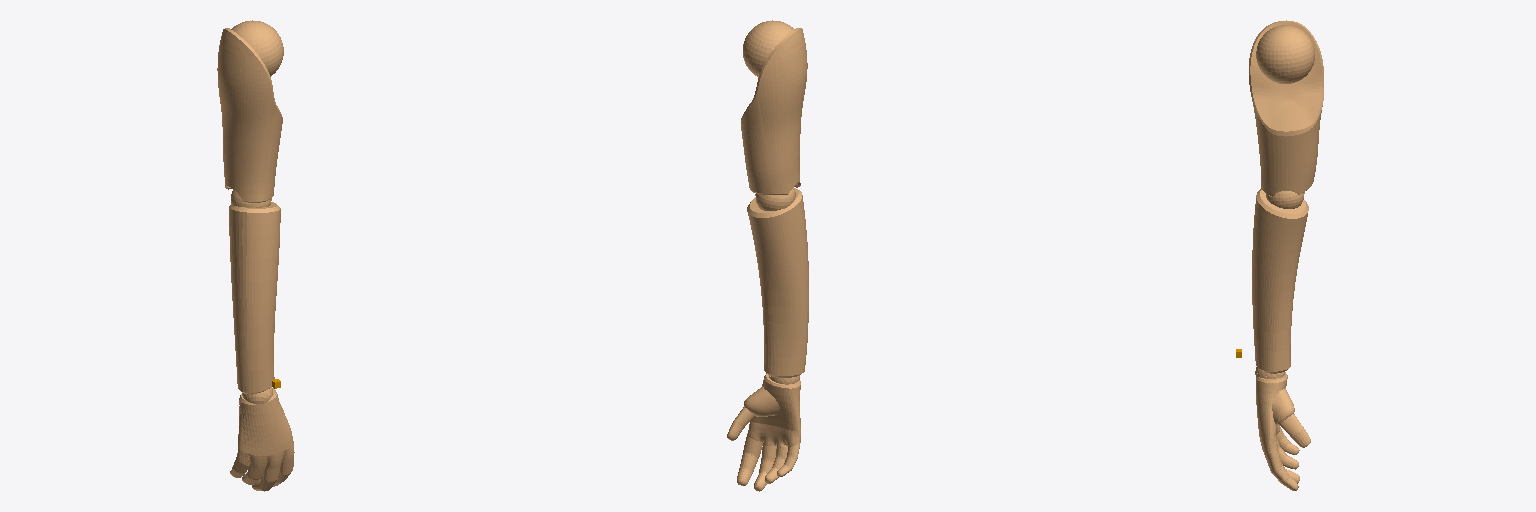
URDF robot description (right_arm):
<?xml version="1.0" ?>
<robot name="right_arm">

  <material name="skin">
    <color rgba="0.9 0.72 0.53 1.000"/>
  </material>

  <link name="base_link">
    <inertial>
      <origin xyz="0.0 0.0 0.0" rpy="0 0 0"/>
      <mass value="0.0"/>
      <inertia ixx="0.0" iyy="0.0" izz="0.0" ixy="0.0" iyz="0.0" ixz="0.0"/>
    </inertial>
  </link>

  <joint name="base_fixed" type="fixed">
    <origin rpy="0 0 0.0" xyz="0 0 0.0"/>
    <parent link="base_link"/>
    <child link="base_link_0"/>
  </joint>

  <link name="base_link_0">
    <inertial>
      <origin xyz="0.0 0.0 0.0" rpy="0 0 0"/>
      <mass value="0.0"/>
      <inertia ixx="0.0" iyy="0.0" izz="0.0" ixy="0.0" iyz="0.0" ixz="0.0"/>
    </inertial>
  </link>

  <link name="base_link_1">
    <inertial>
      <origin xyz="0.0 0.0 0.0" rpy="0 0 0"/>
      <mass value="0.0"/>
      <inertia ixx="0.0" iyy="0.0" izz="0.0" ixy="0.0" iyz="0.0" ixz="0.0"/>
    </inertial>
  </link>

  <link name="base_link_2">
    <inertial>
      <origin xyz="0.0 0.0 0.0" rpy="0 0 0"/>
      <mass value="0.0"/>
      <inertia ixx="0.0" iyy="0.0" izz="0.0" ixy="0.0" iyz="0.0" ixz="0.0"/>
    </inertial>
  </link>

    <link name="hand_x">
    <inertial>
      <origin xyz="0.0 0.0 0.0" rpy="0 0 0"/>
      <mass value="0.0"/>
      <inertia ixx="0.0" iyy="0.0" izz="0.0" ixy="0.0" iyz="0.0" ixz="0.0"/>
    </inertial>
  </link>

  <link name="upper_arm">
    <inertial>
      <origin xyz="0.00277 -0.00352 -0.098" rpy="0 0 0"/>
      <mass value="1.0"/>
      <inertia ixx="0.00691" iyy="0.00674" izz="0.00097" ixy="-6.65745e-06" iyz="-7.0718e-05" ixz="0.00015"/>
    </inertial>
    <visual>
      <origin xyz="0 0 0" rpy="0 0 0"/>
      <geometry>
        <mesh filename="meshes/right_upper_arm.stl" scale="1.0 1.0 1.0"/>
      </geometry>
      <material name="skin"/>
    </visual>
    <collision>
      <origin xyz="0 0 0" rpy="0 0 0"/>
      <geometry>
        <mesh filename="meshes/right_upper_arm.stl" scale="1.0 1.0 1.0"/>
      </geometry>
    </collision>
  </link>

  <link name="lower_arm">
    <inertial>
      <origin xyz="0.01457 9.28389e-05 -0.19143" rpy="0 0 0"/>
      <mass value="1.0"/>
      <inertia ixx="0.01712" iyy="0.01699" izz="0.00072" ixy="-5.34657e-05" iyz="-0.00071" ixz="0.00031"/>
    </inertial>
    <visual>
      <origin xyz="0.0 0.0 0.0" rpy="0 0 0"/>
      <geometry>
        <mesh filename="meshes/right_lower_arm_without_hand.stl" scale="1.0 1.0 1.0"/>
      </geometry>
      <material name="skin"/>
    </visual>
    <collision>
      <origin xyz="0.0 0.0 0.0" rpy="0 0 0"/>
      <geometry>
        <mesh filename="meshes/right_lower_arm_without_hand.stl" scale="1.0 1.0 1.0"/>
      </geometry>
    </collision>
  </link>

  <link name="hand">
    <inertial>
      <origin xyz="0.16051 -0.012319 0.075256" rpy="0 0 0"/>
      <mass value="1.0"/>
      <inertia ixx="0.01712" iyy="0.01699" izz="0.00072" ixy="-5.34657e-05" iyz="-0.00071" ixz="0.00031"/>
    </inertial>
    <visual>
      <origin xyz="0.0 0.0 0.0" rpy="0 0 0"/>
      <geometry>
        <mesh filename="meshes/right_hand.stl" scale="1.0 1.0 1.0"/>
      </geometry>
      <material name="skin"/>
    </visual>
    <collision>
      <origin xyz="0.0 0.0 0.0" rpy="0 0 0"/>
      <geometry>
        <mesh filename="meshes/right_hand.stl" scale="1.0 1.0 1.0"/>
      </geometry>
    </collision>
  </link>

  <joint name="base_x" type="continuous">
    <origin xyz="0.0 0.0 0.0" rpy="0 0 0"/>
    <parent link="base_link_0"/>
    <child link="base_link_1"/>
    <axis xyz="1.0 0.0 0.0"/>
    <!-- <limit effort="100" lower="-1.57" upper="1.57" velocity="5.0"/> -->
  </joint>

  <joint name="base_y" type="continuous">
    <origin xyz="0.0 0.0 0.0" rpy="0 0 0"/>
    <parent link="base_link_1"/>
    <child link="base_link_2"/>
    <axis xyz="0.0 1.0 0.0"/>
    <!-- <limit effort="100" lower="-1.57" upper="0" velocity="5.0"/> -->
  </joint>

  <joint name="base_z" type="continuous">
    <origin xyz="0.0 0.0 0.0" rpy="0 0 0"/>
    <parent link="base_link_2"/>
    <child link="upper_arm"/>
    <axis xyz="0.0 0.0 1.0"/>
    <!-- <limit effort="100" lower="0.0" upper="1.57" velocity="5.0"/> -->
  </joint>

  <joint name="upper_to_lower" type="continuous">
    <origin xyz="0.0 0.0 -0.24102" rpy="0 0 -1.57"/>
    <parent link="upper_arm"/>
    <child link="lower_arm"/>
    <axis xyz="0.0 1.0 0.0"/>
    <!-- <limit effort="100" lower="-2.0944" upper="0.0" velocity="5.0"/> -->
  </joint>


  <joint name="lower_to_hand_x" type="fixed">
    <origin xyz="0.0 0.0 -0.296366" rpy="0 0 0"/>
    <parent link="lower_arm"/>
    <child link="hand_x"/>
    <!-- <axis xyz="1.0 0.0 0.0"/> -->
    <!-- <limit effort="100" lower="-2.0944" upper="0.0" velocity="5.0"/> -->
  </joint>


  <joint name="lower_to_hand" type="fixed">
    <origin xyz="0.0 0.0 0.0" rpy="0 0 0"/>
    <parent link="hand_x"/>
    <child link="hand"/>
    <!-- <axis xyz="0.0 1.0 0.0"/> -->
    <!-- <limit effort="100" lower="-2.0944" upper="0.0" velocity="5.0"/> -->
  </joint>



  <joint name="grasp_fixed_joint" type="fixed">
    <parent link="hand"/>
    <child link="ee_link"/>
    <origin rpy="0.0 0.0 0.0" xyz="0.07 0.0 0.03"/>
  </joint>

  <link name="ee_link">
    <inertial>
      <origin xyz="0.0 0.0 0.0" rpy="0 0 0"/>
      <mass value="0.0"/>
      <inertia ixx="0.0" iyy="0.0" izz="0.0" ixy="0.0" iyz="0.0" ixz="0.0"/>
    </inertial>
    <visual>
      <geometry>
        <box size="0.01 0.01 0.01"/>
      </geometry>
      <origin rpy="0 0 0" xyz="0.0 0 0"/>
    </visual>
  </link>

</robot>

--- What the picture shows (computed from the rendered views, not written in the file) ---
Views: 3 orthographic renders of the robot side by side, from view 1: azimuth 30°, elevation 25°; view 2: azimuth 150°, elevation 25°; view 3: azimuth 270°, elevation 25°.
Robot: right_arm — 9 links, 8 joints (4 continuous, 4 fixed); root link base_link; default pose: every joint at zero.
Links seen in each view (by area): view 1: upper_arm, lower_arm, hand; view 2: upper_arm, lower_arm, hand; view 3: upper_arm, lower_arm, hand.
Boxes of the visible links, <box> form: upper_arm: <box>217,20,283,207</box>; lower_arm: <box>229,202,280,396</box>; hand: <box>230,388,294,491</box>; upper_arm: <box>741,20,807,210</box>; lower_arm: <box>747,188,808,379</box>; hand: <box>727,373,800,491</box>; upper_arm: <box>1249,20,1323,208</box>; lower_arm: <box>1252,189,1308,376</box>; hand: <box>1255,371,1310,490</box>.
Bounding box of the posed robot: 0.1109 × 0.1358 × 0.7635 m (x, y, z).
3 mesh visuals loaded from 3 distinct referenced files (3 binary STL).